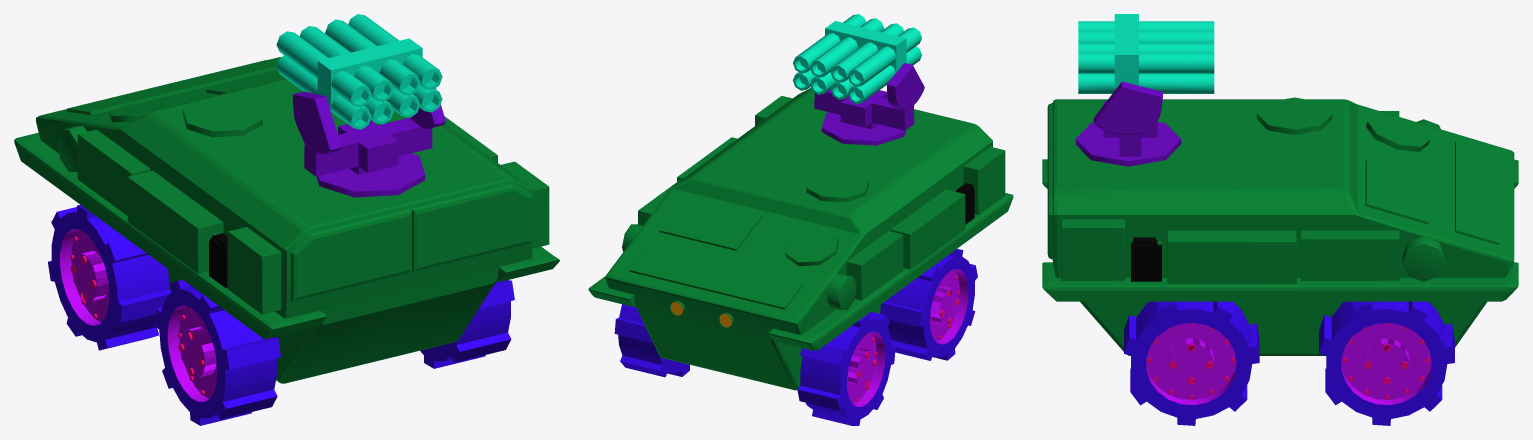
Rendered from Alvis Stormer HVM.fbx.
3 renders of one model, left to right at view 1: azimuth 30°, elevation 25°; view 2: azimuth 150°, elevation 25°; view 3: azimuth 270°, elevation 25°, orthographic. The views are drawn at different scales.
Parts seen in each view (by area): view 1: Alvis Stormer HVMBody, Alvis Stormer HVMWheel (×3), Alvis Stormer HVMCanons, Alvis Stormer HVMCanonsBodyMount; view 2: Alvis Stormer HVMBody, Alvis Stormer HVMWheel (×3), Alvis Stormer HVMCanons, Alvis Stormer HVMCanonsBodyMount; view 3: Alvis Stormer HVMBody, Alvis Stormer HVMWheel (×2), Alvis Stormer HVMCanons, Alvis Stormer HVMCanonsBodyMount.
Part boxes in pixels (left/top/right/bottom): Alvis Stormer HVMBody: left=14, top=57, right=559, bottom=383; Alvis Stormer HVMWheel (×3): left=48, top=204, right=514, bottom=425; Alvis Stormer HVMCanons: left=276, top=14, right=442, bottom=129; Alvis Stormer HVMCanonsBodyMount: left=292, top=88, right=445, bottom=197; Alvis Stormer HVMBody: left=588, top=88, right=1013, bottom=390; Alvis Stormer HVMWheel (×3): left=614, top=248, right=977, bottom=425; Alvis Stormer HVMCanons: left=793, top=14, right=921, bottom=103; Alvis Stormer HVMCanonsBodyMount: left=814, top=63, right=924, bottom=145; Alvis Stormer HVMBody: left=1042, top=97, right=1518, bottom=355; Alvis Stormer HVMWheel (×2): left=1124, top=301, right=1454, bottom=425; Alvis Stormer HVMCanons: left=1078, top=14, right=1214, bottom=93; Alvis Stormer HVMCanonsBodyMount: left=1075, top=81, right=1181, bottom=166.
Bounding box in the file's own units: 2.08 × 2.37 × 3.13.
